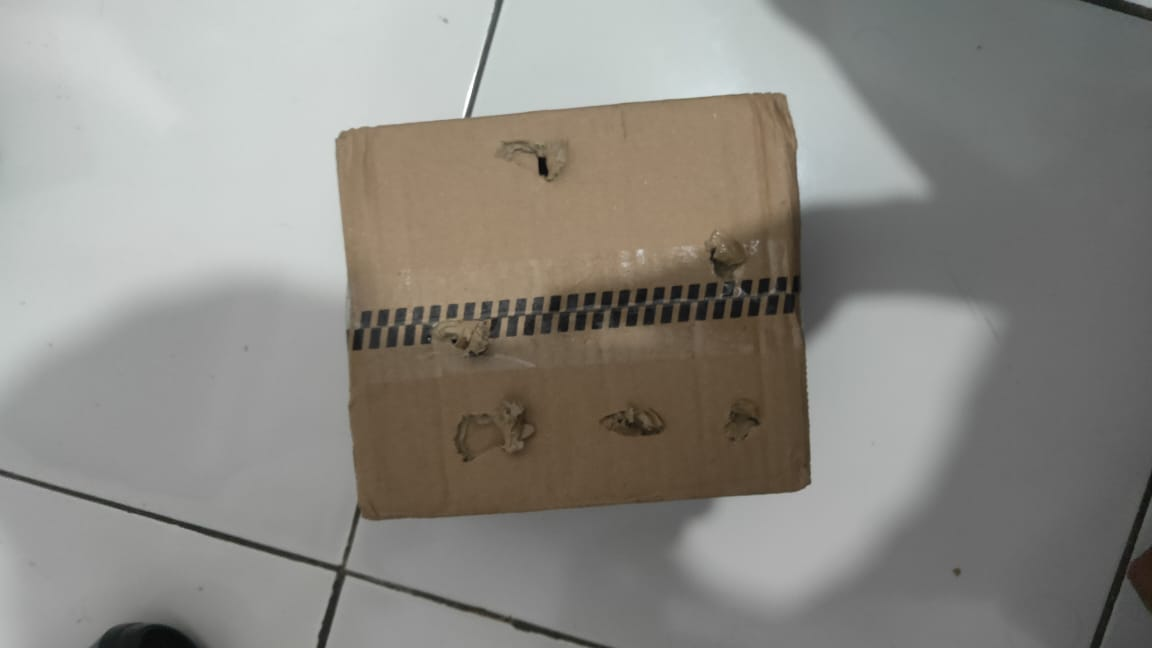damaged package: (447, 403, 537, 475), (479, 137, 584, 196), (592, 397, 674, 444), (694, 231, 765, 284), (432, 315, 496, 364), (720, 397, 767, 440)
undamaged: (334, 93, 815, 524)
